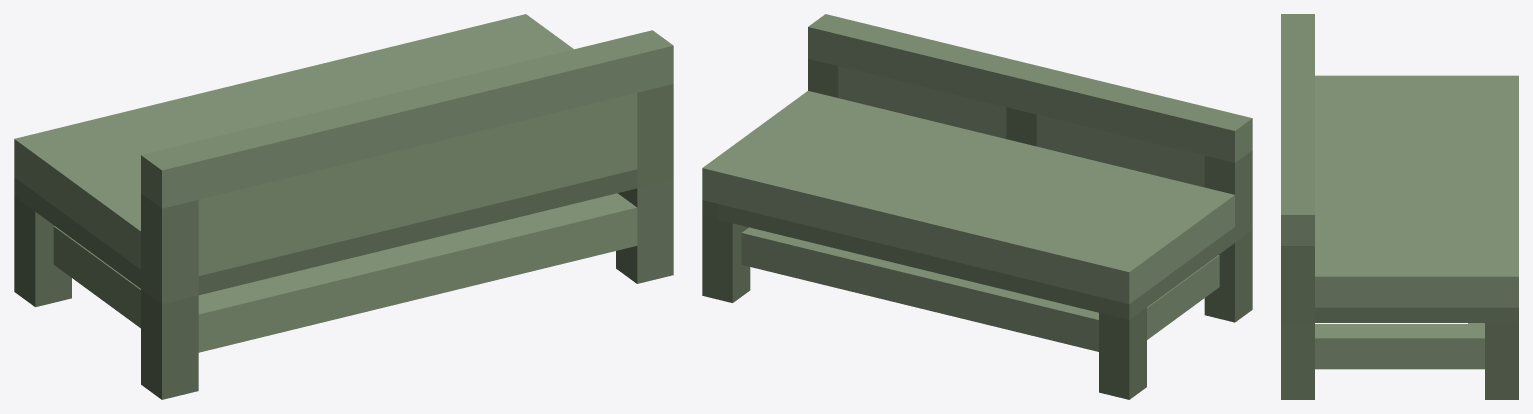
File: banco_desgastada_01.glb
3 views of the same model, side by side, from view 1: azimuth 30°, elevation 25°; view 2: azimuth 150°, elevation 25°; view 3: azimuth 270°, elevation 25° (orthographic). The views are drawn at different scales.
Visible parts, largest first — view 1: banco_desgastada; view 2: banco_desgastada; view 3: banco_desgastada.
Part boxes in pixels (x1,y1,x2,y2): banco_desgastada: (14,14,673,399); banco_desgastada: (702,14,1252,399); banco_desgastada: (1281,14,1518,399).
Size of the model in its own units: 2 by 0.8571 by 1.
